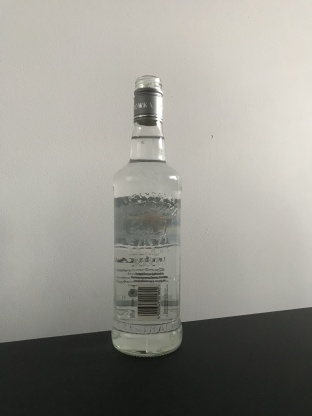nakretka: (131, 72, 164, 126)
